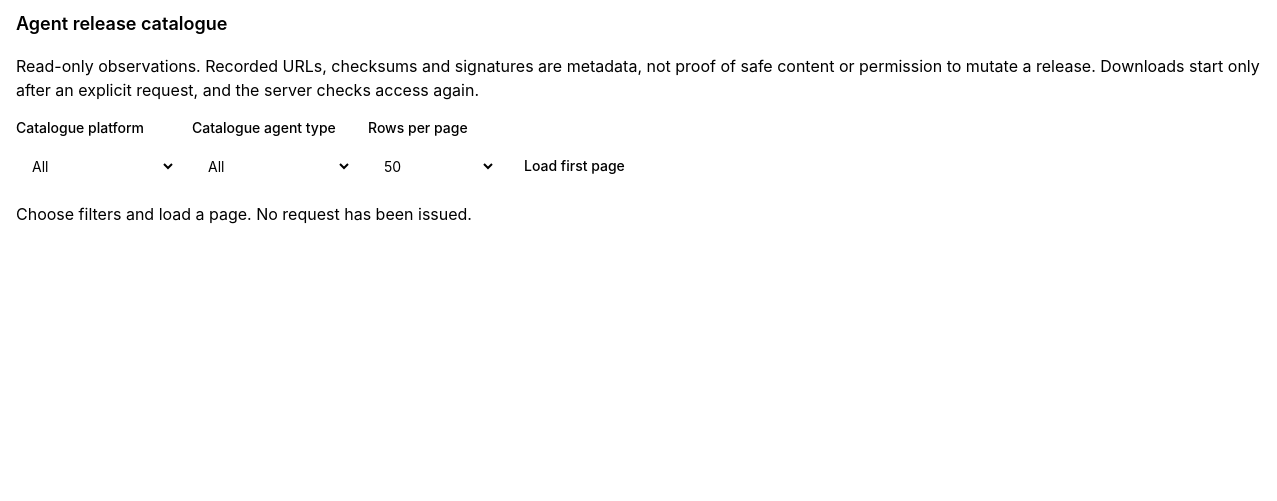
Test: clears rows on platform edit without an automatic request
The width and height of the screenshot is (1277, 501).
Click the button "Load first page" at (574, 166), box [512,146,637,186]
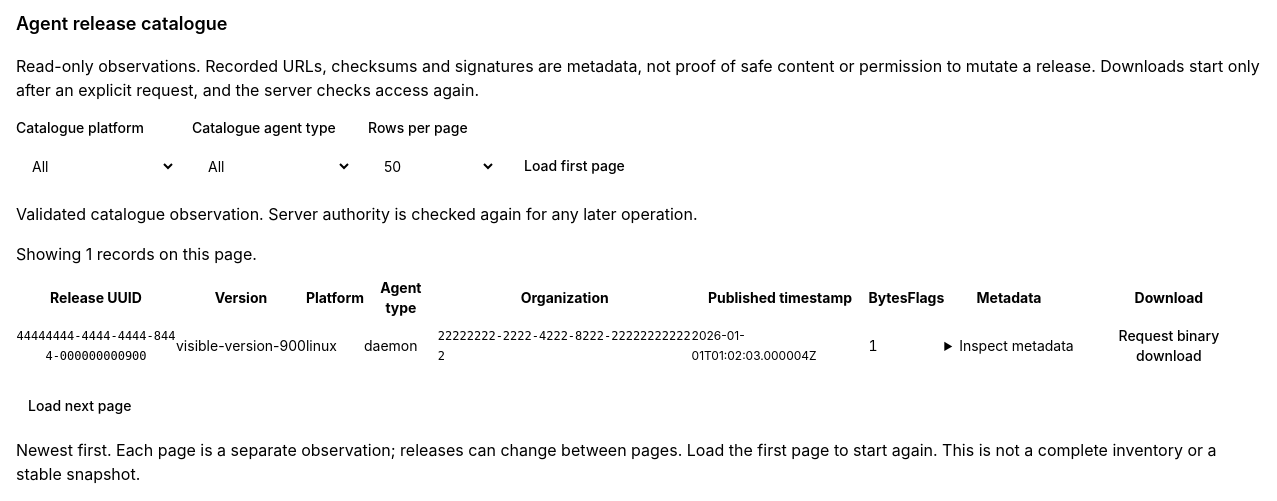
Now the text "visible-version-900" is shown, box [176,318,306,374]
Select "windows" in the dropdown labelled "Catalogue platform" at (96, 166), box [16,146,176,186]
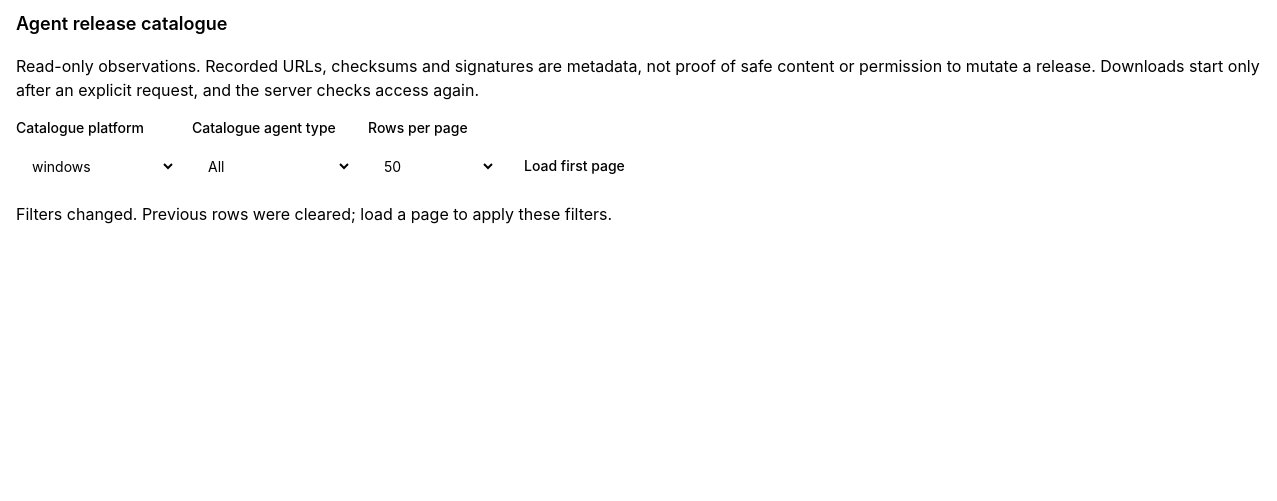
Now the text "visible-version-900" is gone
Now the message reads "Filters changed. Previous rows were cleared; load a page to apply these filters.", box [16,204,612,224]
Click the button "Load first page" at (574, 166), box [512,146,637,186]
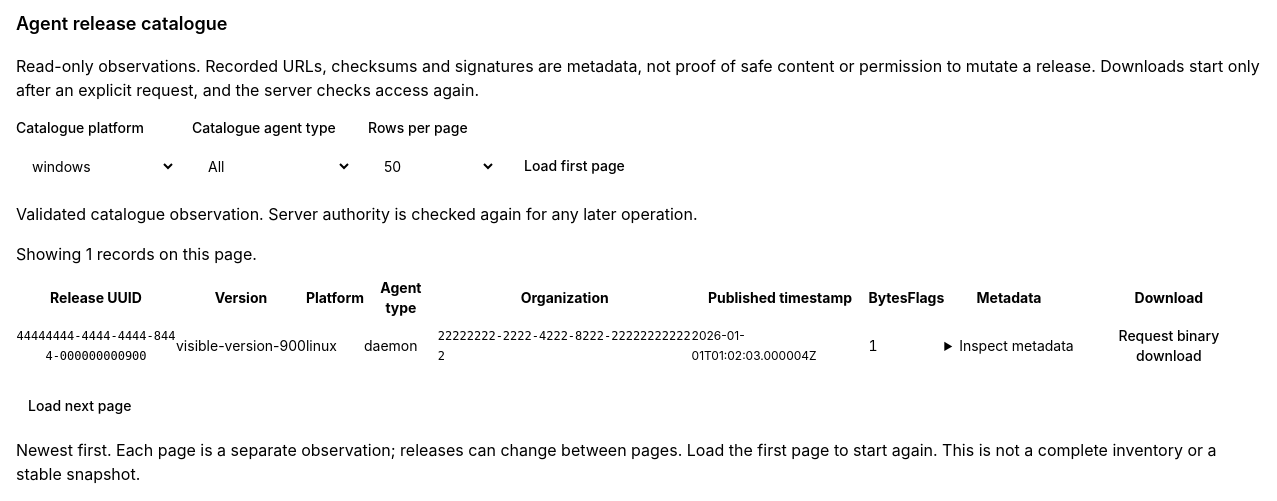
Now the text "visible-version-900" is shown, box [176,318,306,374]
